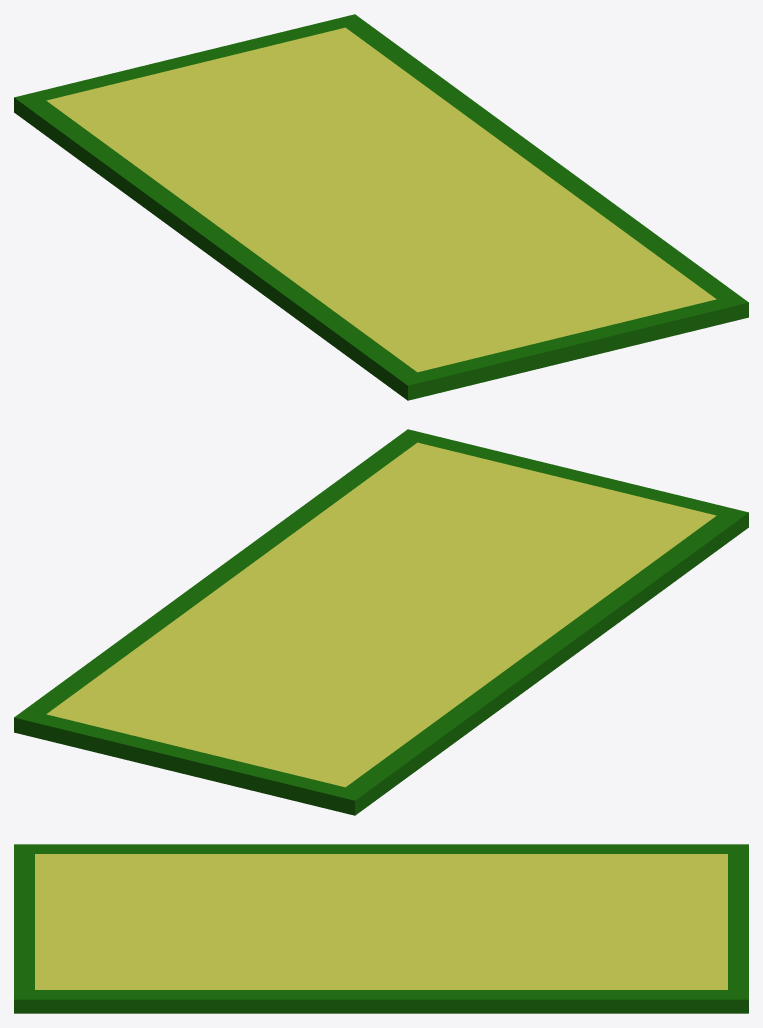
The model's file is tatami.obj.
3 renders of one model, top to bottom at view 1: azimuth 30°, elevation 25°; view 2: azimuth 150°, elevation 25°; view 3: azimuth 270°, elevation 25°, orthographic. The views are drawn at different scales.
Parts seen in each view (by area): view 1: Cube; view 2: Cube; view 3: Cube.
Part boxes in pixels (x1=…): Cube: x1=14, y1=14, x2=748, y2=400; Cube: x1=14, y1=429, x2=748, y2=815; Cube: x1=14, y1=844, x2=748, y2=1013.
Bounding box in the file's own units: 1.9 × 0.08 × 3.8.
1 material, 1 textured.
